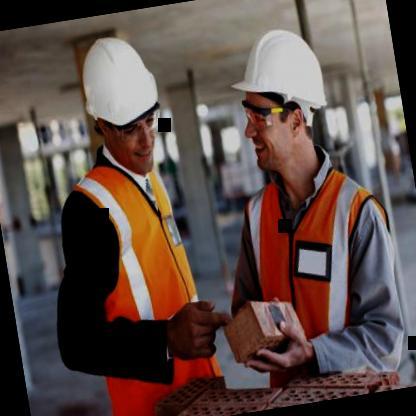helmet: (214, 8, 347, 200), (66, 18, 181, 186)
